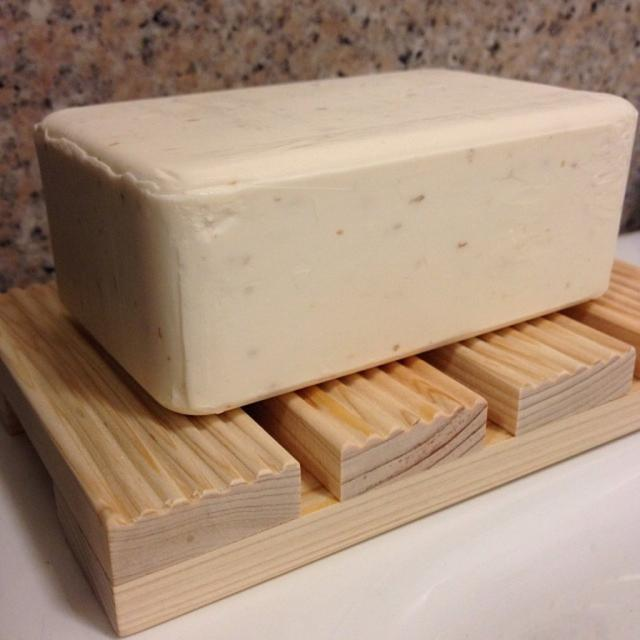Cheese: (30, 62, 639, 420)
